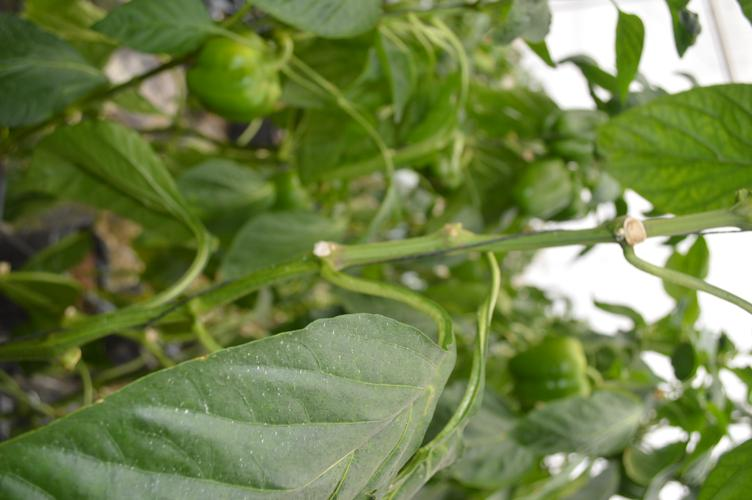BellPepper: (182, 32, 273, 117), (513, 337, 596, 402)
